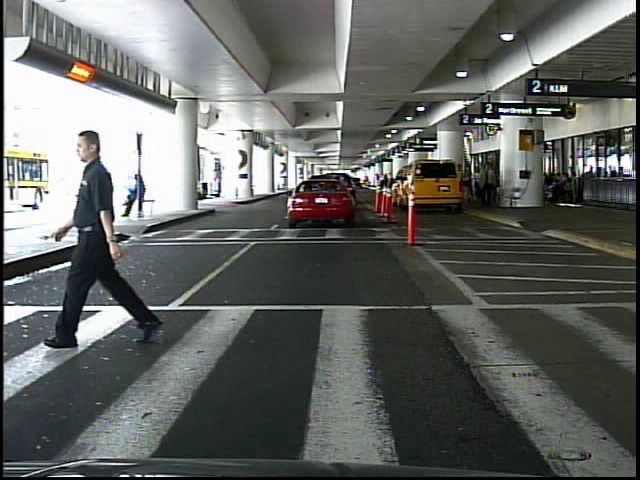person: (73, 125, 160, 349), (480, 163, 497, 209)
